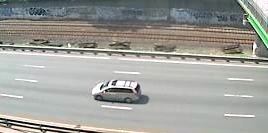car: (87, 76, 147, 105)
